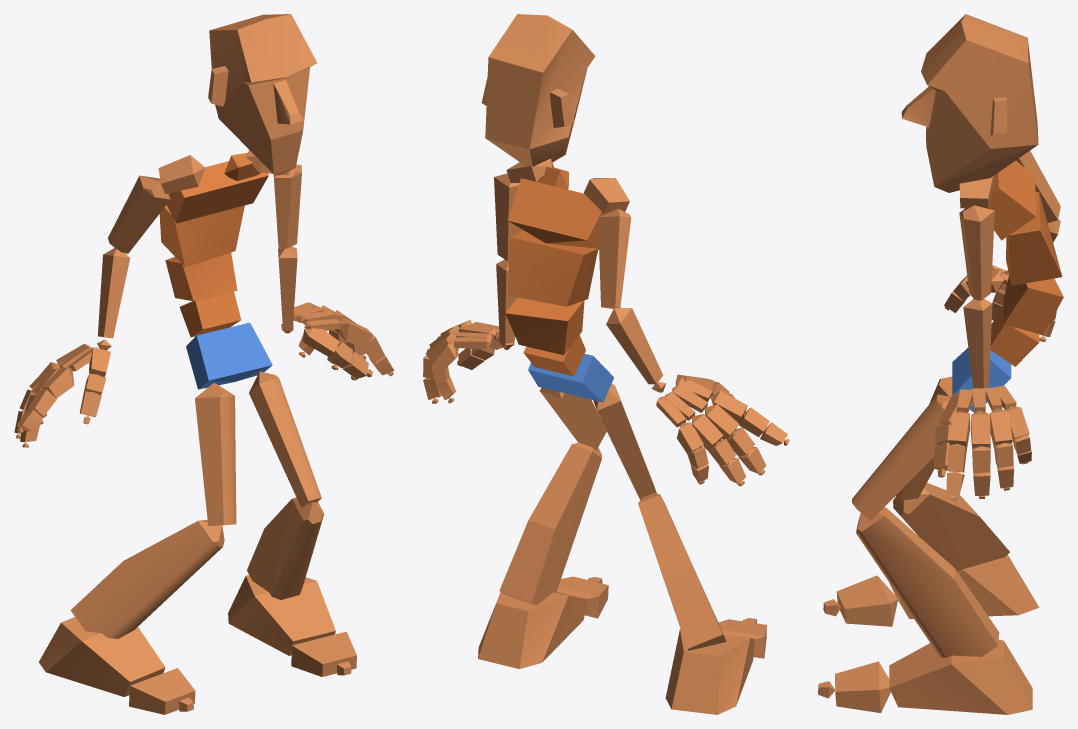
Rendered from personaje32.obj.
3 views of the same model, side by side, from view 1: azimuth 30°, elevation 25°; view 2: azimuth 150°, elevation 25°; view 3: azimuth 270°, elevation 25° (orthographic). The views are drawn at different scales.
Visible parts, largest first — view 1: BOPED_Head, BOPED_R_leg, BOPED_R_foot, BOPED_R_foot01, BOPED_L_leg, BOPED_R_legup, BOPED_L_legup, Bone01, Bone04, Bone05, BOPED_R_arm_upper, Bone03 (+11 smaller); view 2: BOPED_Head, BOPED_L_leg, BOPED_R_foot01, BOPED_R_foot, BOPED_R_leg, Bone04, Bone05, Bone03, BOPED_R_arm_upper, BOPED_R_legup, Bone01, BOPED_L_legup (+11 smaller); view 3: BOPED_Head, BOPED_L_leg, BOPED_R_foot01, BOPED_R_leg, BOPED_L_legup, BOPED_R_foot, Bone04, Bone05, BOPED_L_arm_upper, Bone03, BOPED_R_foot_toe01, BOPED_R_foot_toe04 (+13 smaller).
Part boxes in pixels (left/top/right/bottom): BOPED_Head: left=208, top=14, right=317, bottom=175; BOPED_R_leg: left=70, top=520, right=224, bottom=638; BOPED_R_foot: left=39, top=617, right=165, bottom=696; BOPED_R_foot01: left=228, top=575, right=335, bottom=655; BOPED_L_leg: left=247, top=497, right=323, bottom=599; BOPED_R_legup: left=195, top=383, right=236, bottom=525; BOPED_L_legup: left=249, top=371, right=321, bottom=507; Bone01: left=186, top=322, right=272, bottom=389; Bone04: left=159, top=205, right=244, bottom=267; Bone05: left=166, top=161, right=268, bottom=223; BOPED_R_arm_upper: left=108, top=175, right=170, bottom=253; Bone03: left=165, top=252, right=237, bottom=301; BOPED_Head: left=481, top=14, right=595, bottom=166; BOPED_L_leg: left=499, top=442, right=601, bottom=605; BOPED_R_foot01: left=478, top=592, right=587, bottom=668; BOPED_R_foot: left=665, top=629, right=755, bottom=714; BOPED_R_leg: left=638, top=493, right=726, bottom=650; Bone04: left=508, top=231, right=598, bottom=306; Bone05: left=507, top=178, right=605, bottom=249; Bone03: left=505, top=297, right=584, bottom=355; BOPED_R_arm_upper: left=598, top=208, right=631, bottom=308; BOPED_R_legup: left=593, top=384, right=656, bottom=499; Bone01: left=528, top=354, right=614, bottom=402; BOPED_L_legup: left=540, top=387, right=606, bottom=450; BOPED_Head: left=901, top=14, right=1038, bottom=192; BOPED_L_leg: left=856, top=507, right=999, bottom=657; BOPED_R_foot01: left=889, top=639, right=1032, bottom=714; BOPED_R_leg: left=893, top=483, right=1009, bottom=571; BOPED_L_legup: left=852, top=394, right=950, bottom=519; BOPED_R_foot: left=889, top=554, right=1039, bottom=618; Bone04: left=1006, top=191, right=1062, bottom=285; Bone05: left=988, top=160, right=1036, bottom=240; BOPED_L_arm_upper: left=959, top=205, right=994, bottom=300; Bone03: left=1003, top=275, right=1063, bottom=334; BOPED_R_foot_toe01: left=836, top=575, right=898, bottom=626; BOPED_R_foot_toe04: left=835, top=661, right=890, bottom=712.
Bounding box in the file's own units: 105 × 170 × 56.5.
